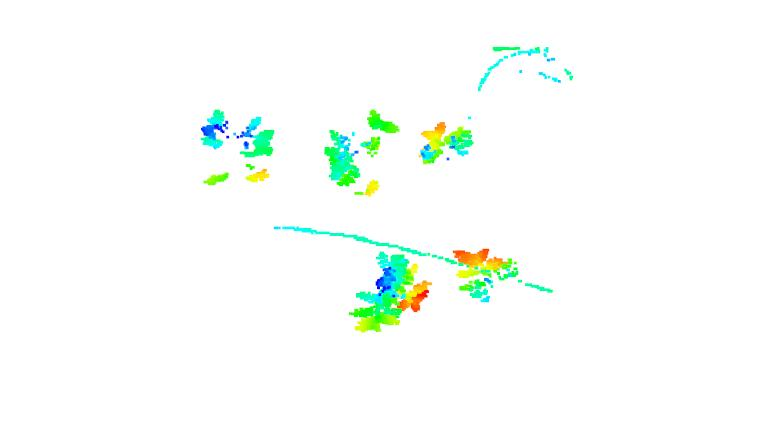chickpea: (320, 105, 401, 199), (346, 250, 427, 335), (199, 109, 280, 182), (447, 241, 524, 305), (417, 122, 481, 167)
